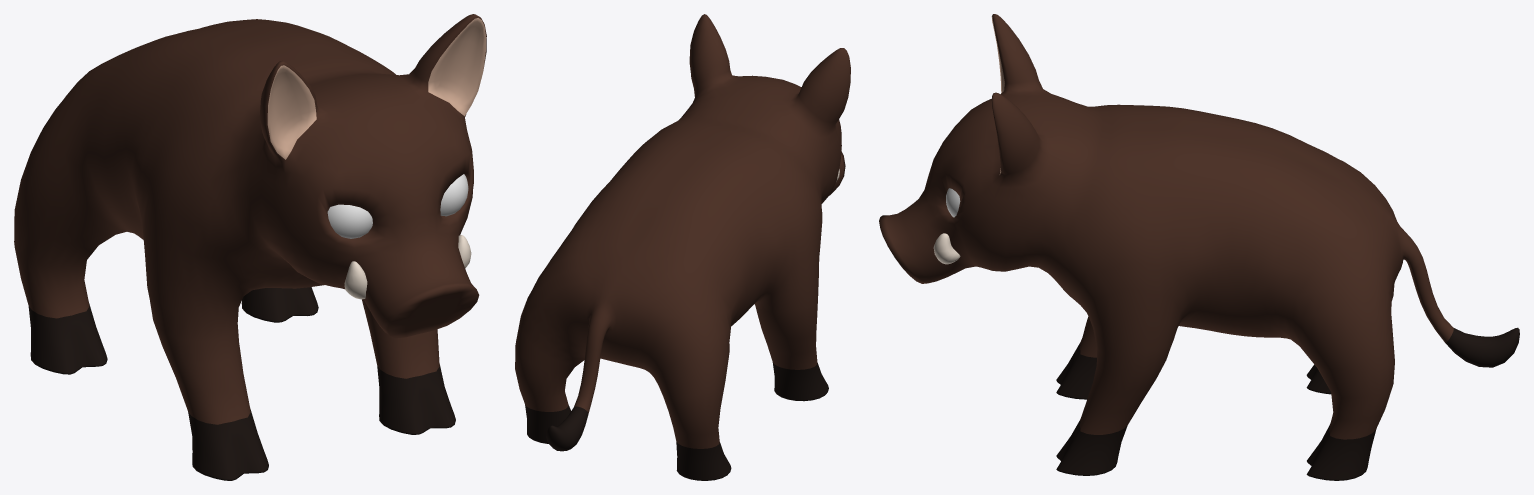
Rendered from Boar.fbx.
3 renders of one model, left to right at view 1: azimuth 30°, elevation 25°; view 2: azimuth 150°, elevation 25°; view 3: azimuth 270°, elevation 25°, orthographic. The views are drawn at different scales.
Visible parts, largest first — view 1: Boar, Eyes, Tusks; view 2: Boar; view 3: Boar.
Part boxes in pixels (box(x1,y1,x2,y2)): Boar: box(14, 14, 486, 480); Eyes: box(327, 174, 468, 238); Tusks: box(344, 235, 471, 299); Boar: box(515, 14, 850, 480); Boar: box(879, 14, 1519, 480).
Size of the model in its own units: 106 by 159 by 248.
